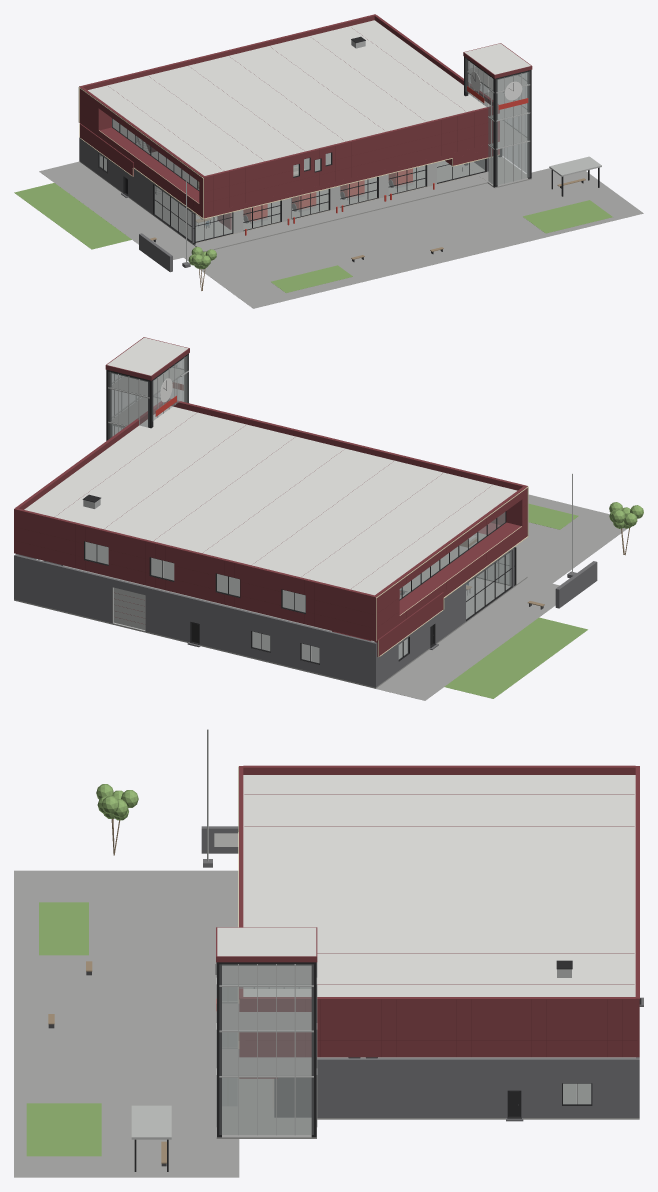
Rendered from clay-cantilever-fire-station-clay-v007.glb.
3 renders of one model, top to bottom at view 1: azimuth 30°, elevation 25°; view 2: azimuth 150°, elevation 25°; view 3: azimuth 270°, elevation 25°, orthographic. The views are drawn at different scales.
Visible parts, largest first — view 1: CLAY_FOUNDATION, CLAY_ROOF, CLAY_WALL, CLAY_GLASS, CLAY_PLANTING, CLAY_TRIM, CLAY_PALE, CLAY_STONE, CLAY_FLOOR, CLAY_RED, CLAY_GLOW, CLAY_JOINT (+2 smaller); view 2: CLAY_ROOF, CLAY_WALL, CLAY_STONE, CLAY_FOUNDATION, CLAY_GLASS, CLAY_PLANTING, CLAY_FLOOR, CLAY_TRIM, CLAY_PALE, CLAY_GLOW, CLAY_JOINT; view 3: CLAY_ROOF, CLAY_FOUNDATION, CLAY_WALL, CLAY_STONE, CLAY_GLASS, CLAY_PLANTING, CLAY_FLOOR, CLAY_PALE, CLAY_TRIM, CLAY_JOINT.
Part boxes in pixels (x1,y1,x2,y2): CLAY_FOUNDATION: (39, 156, 643, 308); CLAY_ROOF: (88, 20, 530, 175); CLAY_WALL: (79, 14, 532, 229); CLAY_GLASS: (99, 58, 529, 242); CLAY_PLANTING: (14, 183, 612, 292); CLAY_TRIM: (98, 36, 599, 244); CLAY_PALE: (137, 40, 601, 263); CLAY_STONE: (79, 137, 488, 272); CLAY_FLOOR: (112, 68, 527, 189); CLAY_RED: (243, 86, 528, 235); CLAY_GLOW: (78, 87, 499, 219); CLAY_JOINT: (108, 28, 474, 211); CLAY_ROOF: (24, 337, 517, 595); CLAY_WALL: (14, 337, 527, 656); CLAY_STONE: (14, 547, 597, 687); CLAY_FOUNDATION: (14, 494, 637, 700); CLAY_GLASS: (36, 355, 514, 663); CLAY_PLANTING: (444, 502, 643, 698); CLAY_FLOOR: (85, 367, 486, 612); CLAY_TRIM: (38, 353, 516, 664); CLAY_PALE: (83, 357, 572, 631); CLAY_GLOW: (376, 486, 528, 657); CLAY_JOINT: (25, 417, 490, 626); CLAY_ROOF: (217, 775, 635, 996); CLAY_FOUNDATION: (14, 870, 639, 1177); CLAY_WALL: (216, 765, 639, 1078); CLAY_STONE: (201, 826, 643, 1121); CLAY_GLASS: (219, 964, 591, 1134); CLAY_PLANTING: (26, 784, 138, 1156); CLAY_FLOOR: (222, 965, 311, 1075); CLAY_PALE: (131, 729, 571, 1139); CLAY_TRIM: (134, 960, 641, 1171); CLAY_JOINT: (244, 794, 636, 1056).
Bounding box in the file's own units: 67 × 16.11 × 50.34.
